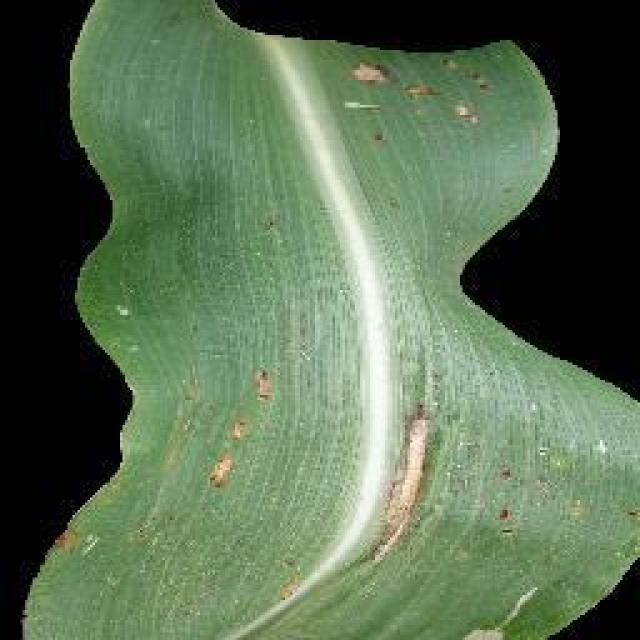Corn Common Rust: (176, 87, 592, 575)
